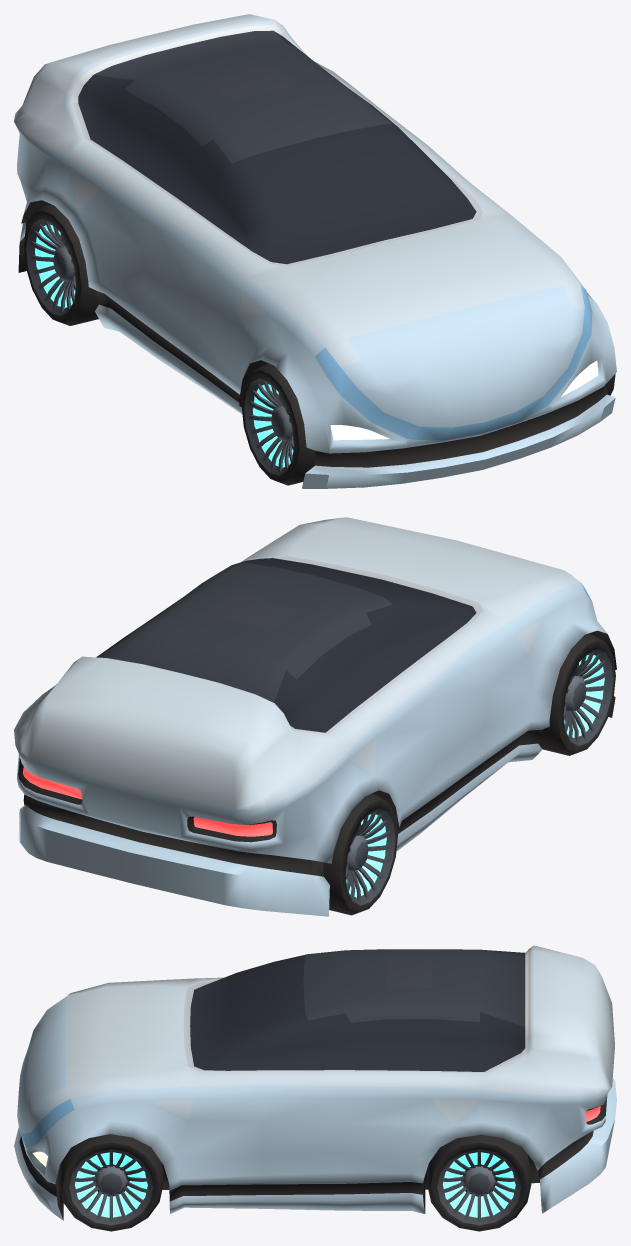
The model's file is futuristic_car_1_pacote.glb.
The picture shows the model from 3 angles, top to bottom: view 1: azimuth 30°, elevation 25°; view 2: azimuth 150°, elevation 25°; view 3: azimuth 270°, elevation 25°; orthographic projection. The views are drawn at different scales.
Visible parts, largest first — view 1: futuristic_car_1_pacote, roda_traseira_esq, roda_dianteira_esq; view 2: futuristic_car_1_pacote, roda_traseira_esq, roda_dianteira_esq; view 3: futuristic_car_1_pacote, roda_traseira_dir, roda_dianteira_dir.
Part boxes in pixels (x1,y1,x2,y2): futuristic_car_1_pacote: [14, 14, 616, 488]; roda_traseira_esq: [23, 204, 98, 325]; roda_dianteira_esq: [241, 363, 315, 485]; futuristic_car_1_pacote: [14, 517, 616, 916]; roda_traseira_esq: [323, 794, 397, 915]; roda_dianteira_esq: [538, 634, 615, 755]; futuristic_car_1_pacote: [14, 945, 616, 1220]; roda_traseira_dir: [427, 1135, 531, 1231]; roda_dianteira_dir: [59, 1134, 163, 1231].
Bounding box in the file's own units: 2.15 × 1.5 × 4.16.
Materials: 4 (1 with a texture image).
